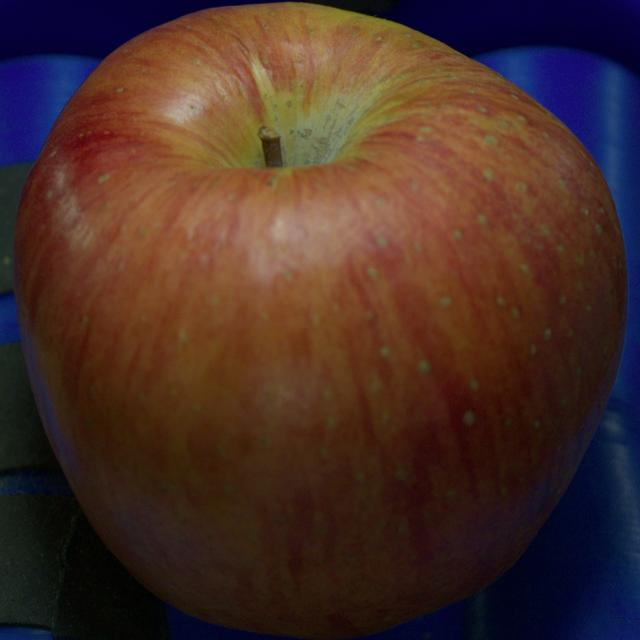apple: (14, 3, 627, 638)
